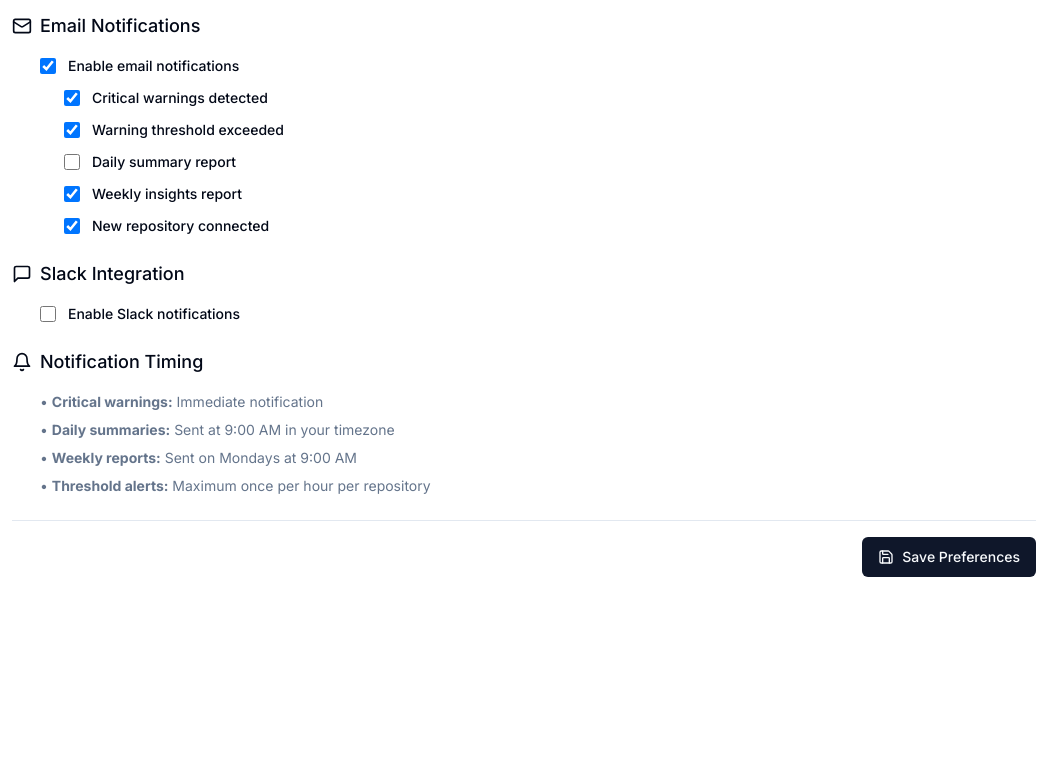
NotificationSettings › shows email notification options only when email is enabled
Expected: the checkbox labelled "Critical warnings detected" is shown, top-left (64, 90), bottom-right (80, 106)
Disable email notifications
Click the checkbox labelled "Enable email notifications".
click(48, 66)  # box top-left (40, 58), bottom-right (56, 74)
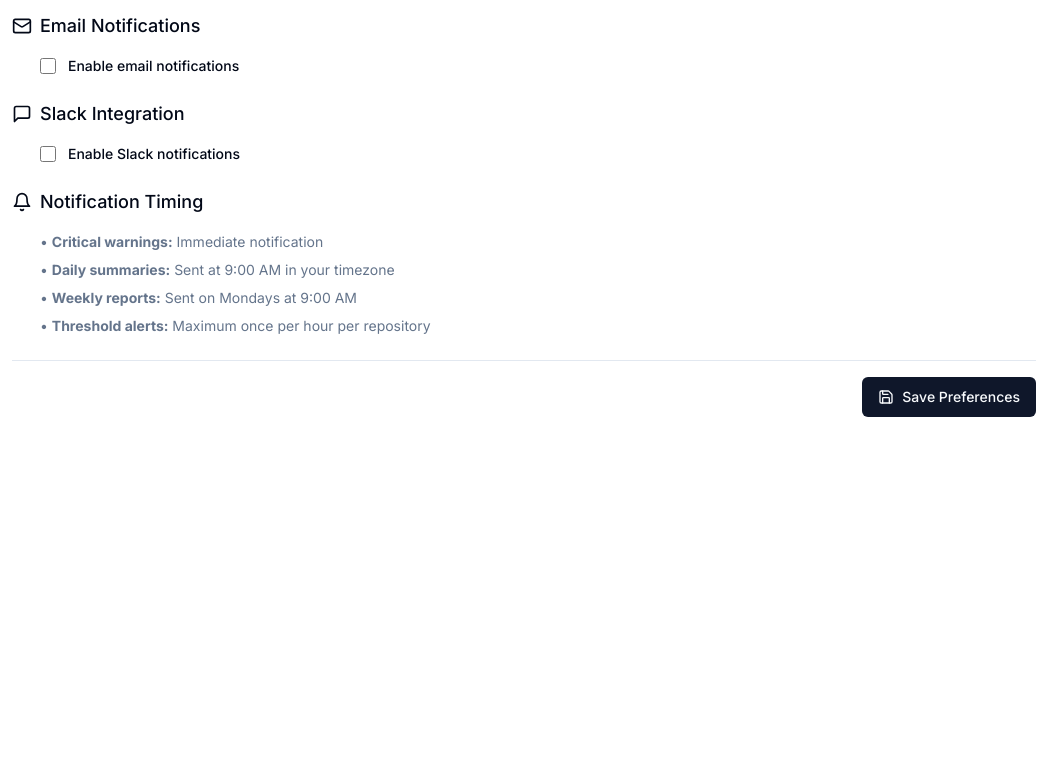
Now the label labelled "Critical warnings detected" is gone
